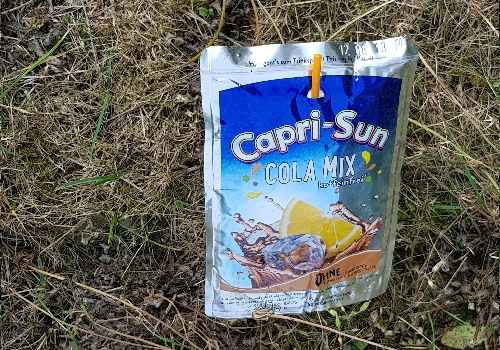trash: (189, 34, 401, 327)
